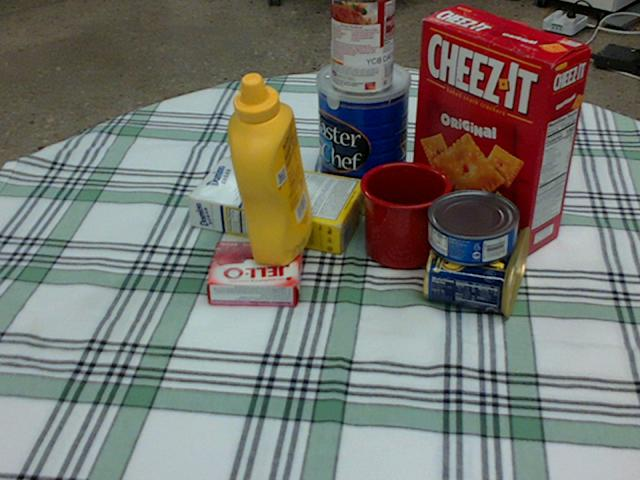cracker_box: (410, 4, 593, 254)
gelatin_box: (206, 243, 305, 307)
master_chef_can: (316, 58, 410, 209)
mug: (361, 161, 453, 269)
mustard_bottle: (227, 72, 311, 265)
potted_meat_can: (424, 212, 531, 313)
sugar_box: (185, 155, 366, 253)
tomato_soup_can: (331, 0, 395, 94)
tuna_fish_can: (427, 191, 518, 264)
